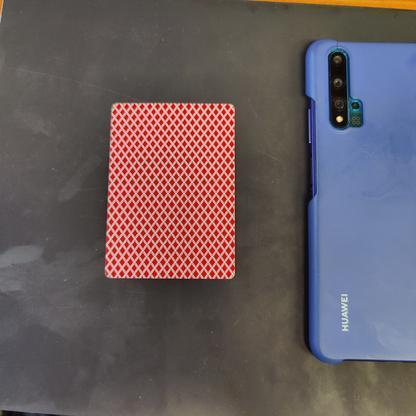card: (96, 93, 245, 288)
